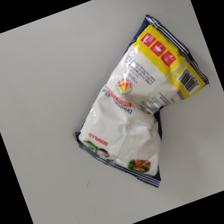Salt: (72, 13, 209, 192)
